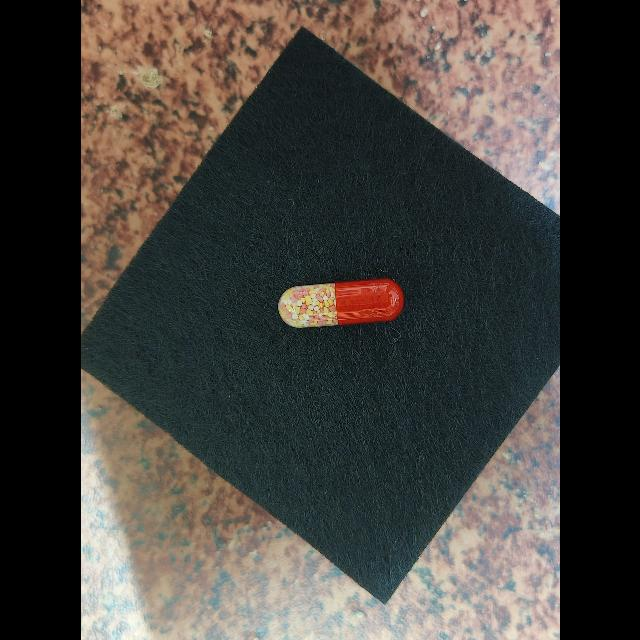Intact Capsule: (277, 278, 404, 328)
